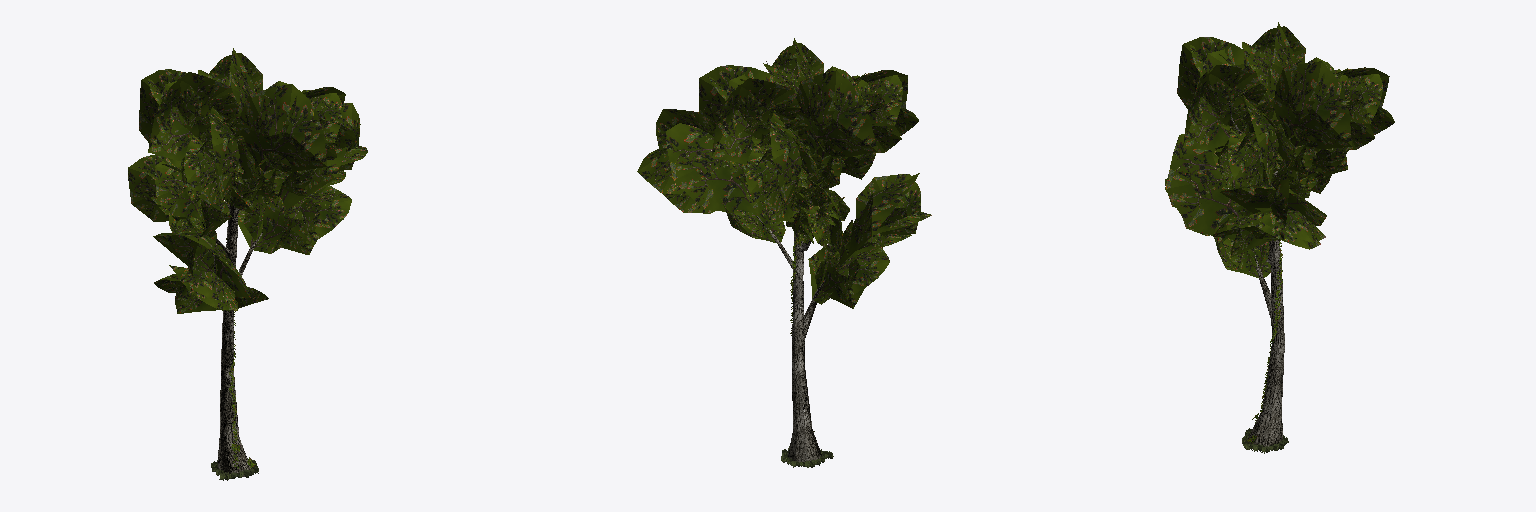
The picture shows the model from 3 angles: view 1: azimuth 30°, elevation 25°; view 2: azimuth 150°, elevation 25°; view 3: azimuth 270°, elevation 25°; orthographic projection.
Bounding box in the file's own units: 11.62 × 19.21 × 9.99.
4 materials, 4 textured.